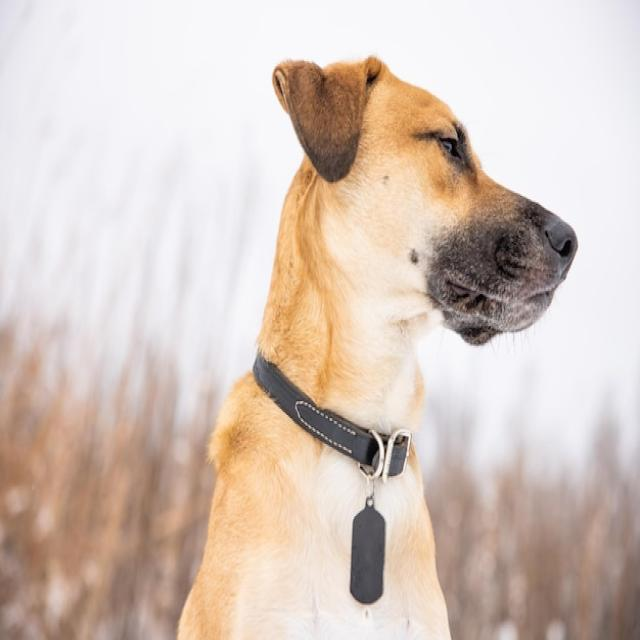Dog: (175, 55, 580, 640)
